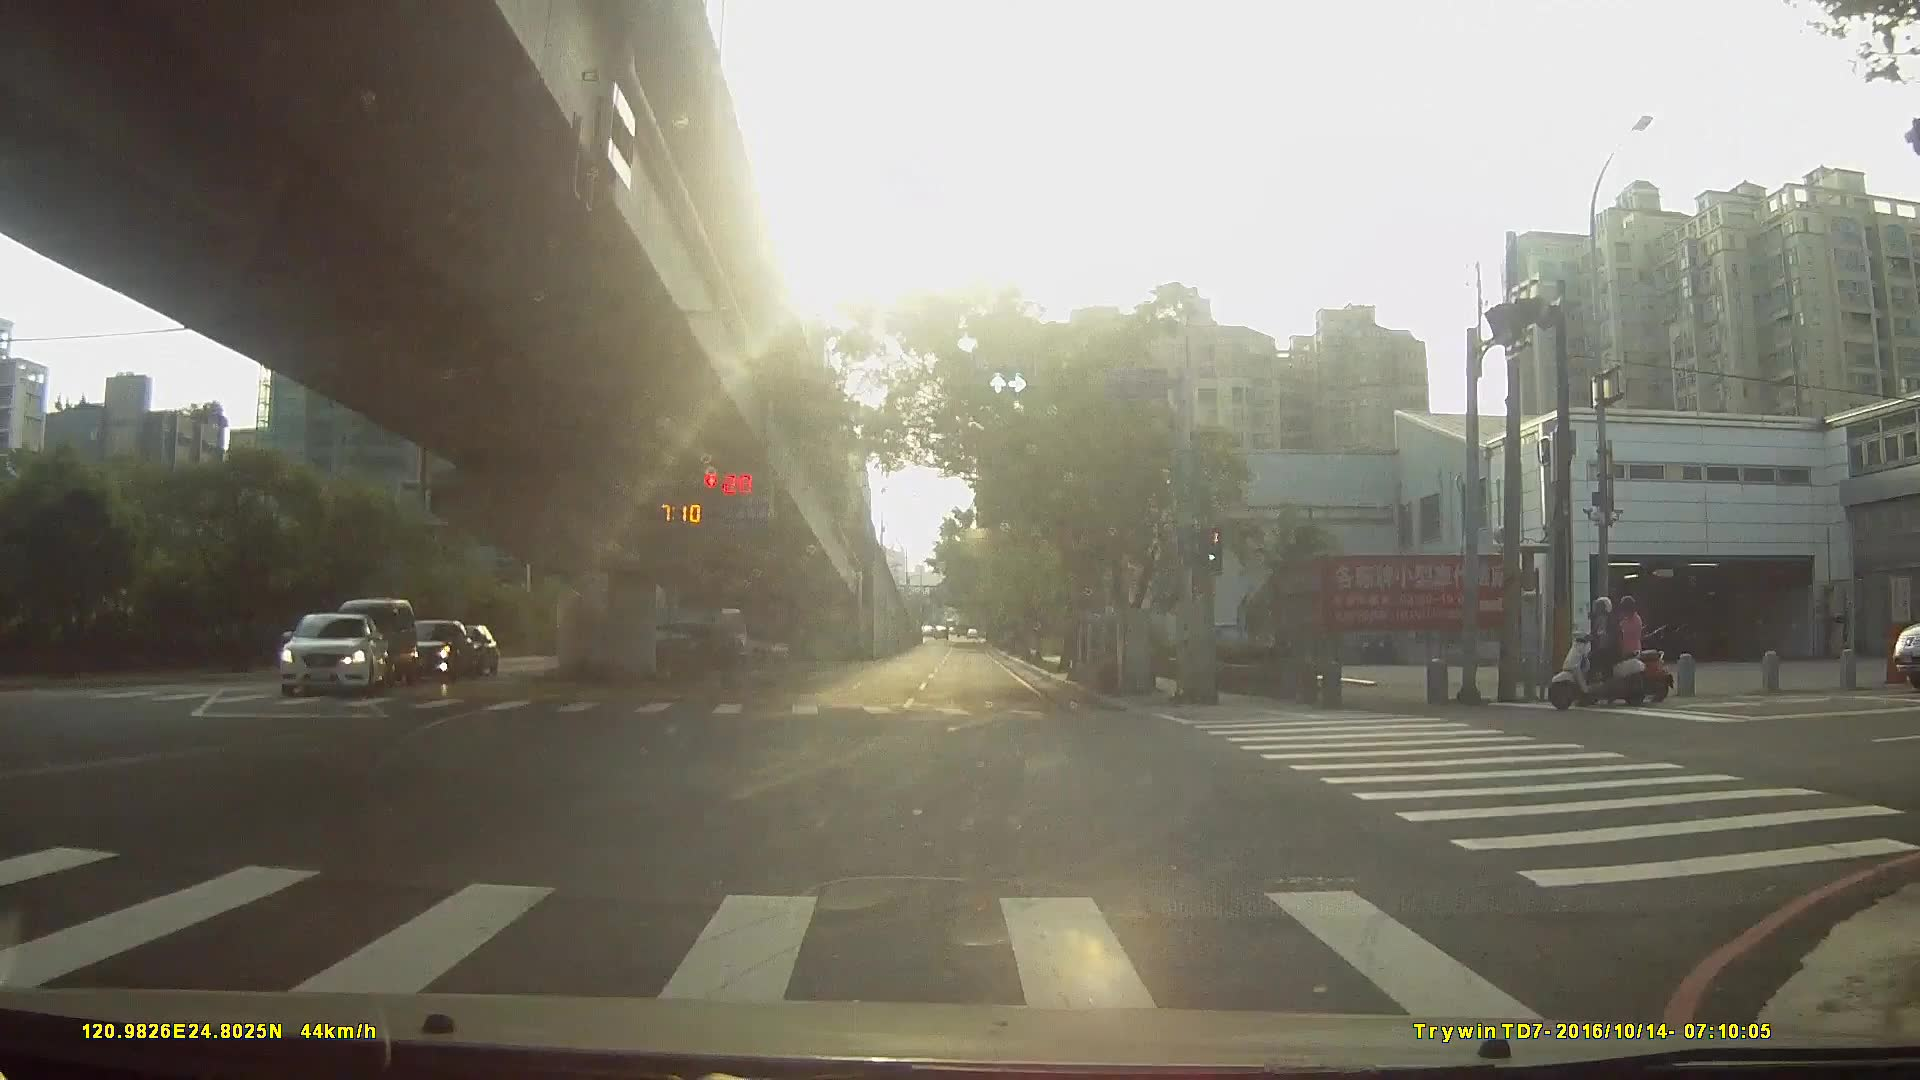rider: (1543, 595, 1650, 707)
vehicle: (267, 613, 382, 698), (326, 598, 410, 689), (622, 621, 744, 681), (390, 617, 475, 684)
